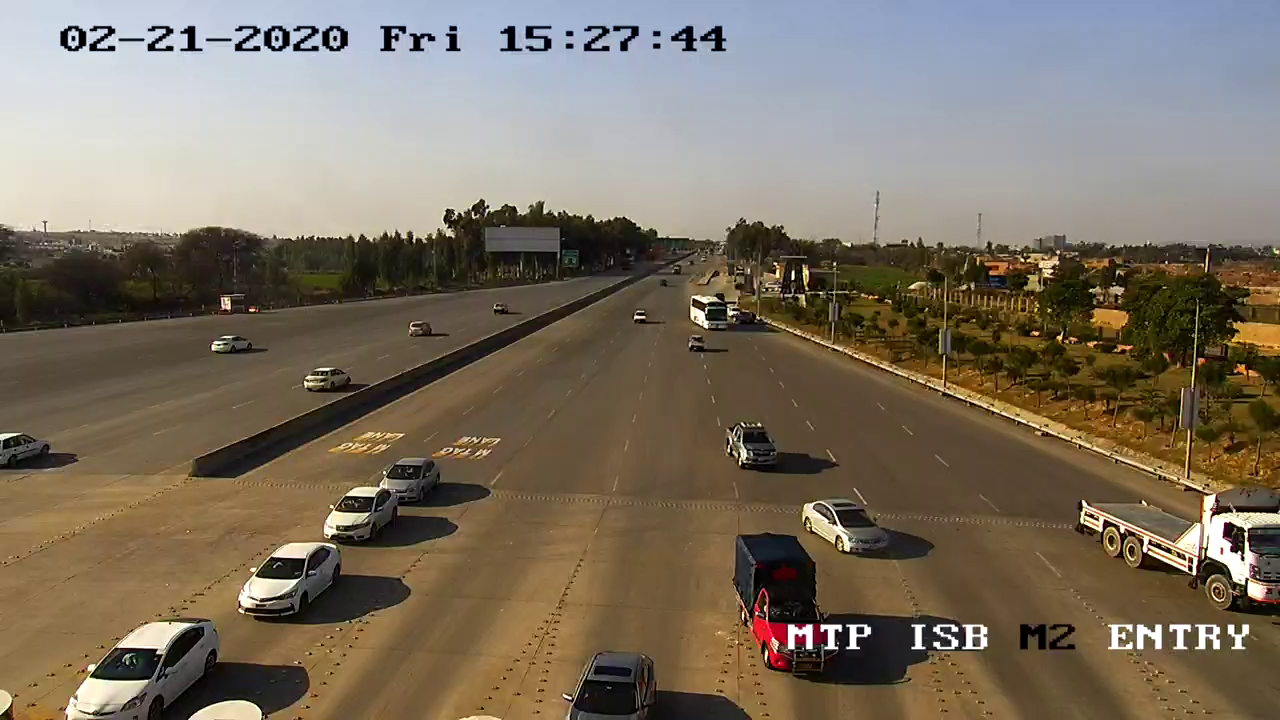f1: (228, 535, 352, 624), (720, 413, 782, 485)
f5: (1068, 486, 1280, 614)
